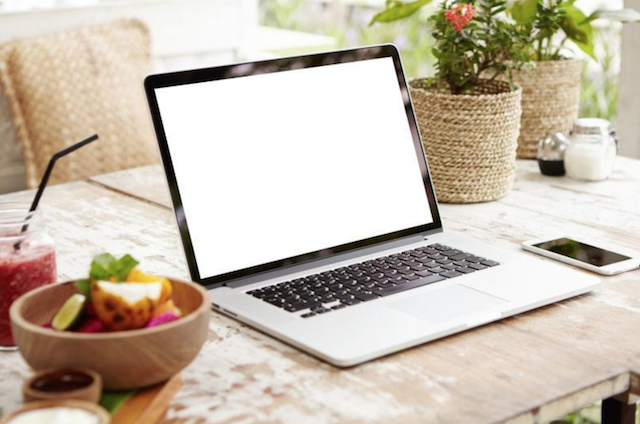computer: (124, 50, 582, 372)
phone: (525, 219, 640, 299)
